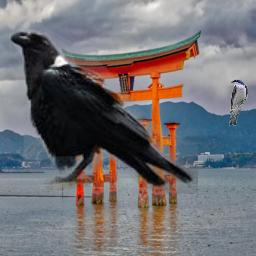Crow: (9, 23, 198, 194)
Swallow: (228, 79, 248, 126)
